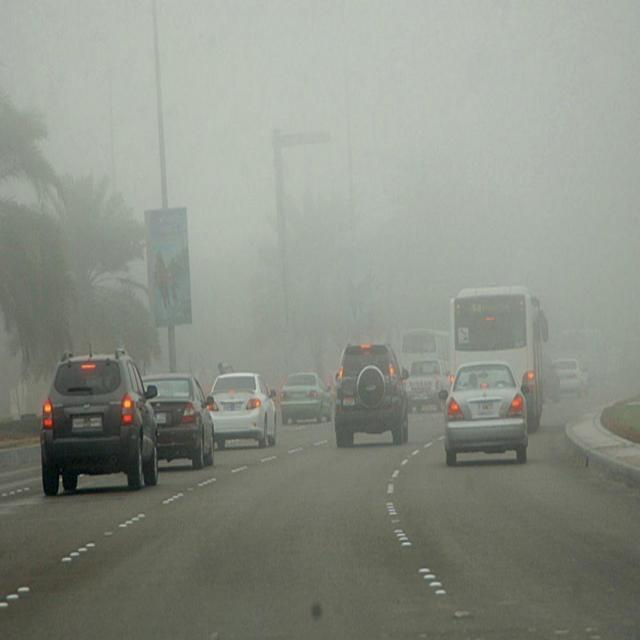Bus: (445, 287, 545, 420)
Car: (39, 349, 157, 497), (330, 342, 408, 452), (442, 375, 528, 466), (144, 376, 215, 468), (208, 366, 278, 450), (279, 366, 330, 426)
